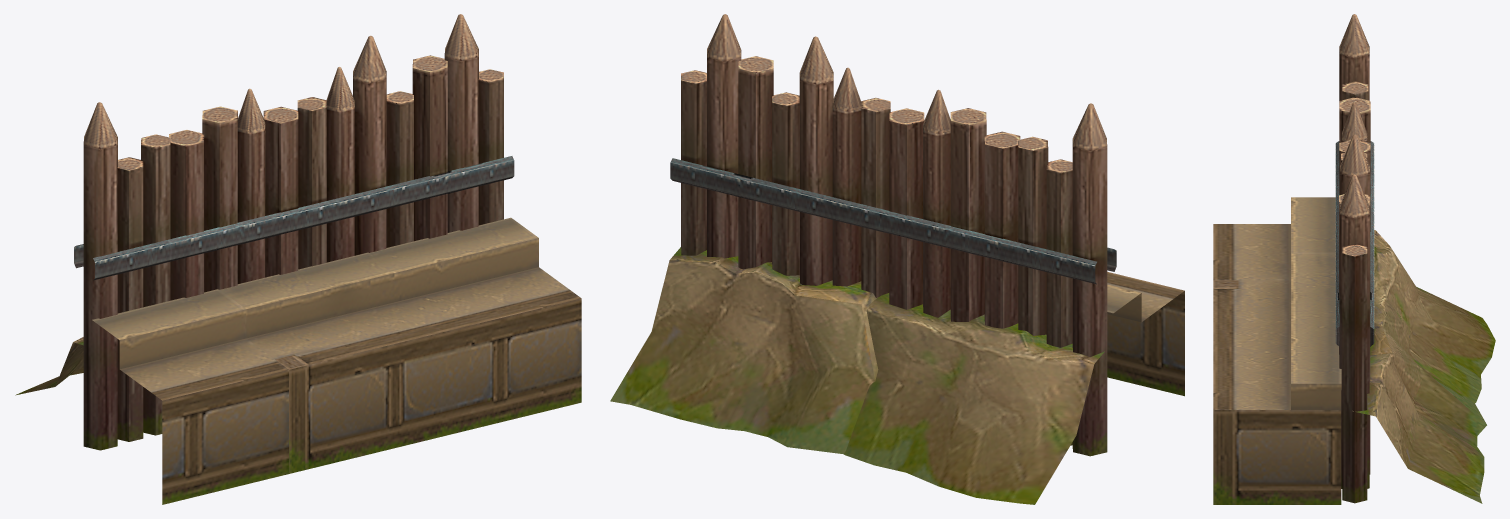
File: ShiJie_ChengQiang_11.FBX
3 renders of one model, left to right at view 1: azimuth 30°, elevation 25°; view 2: azimuth 150°, elevation 25°; view 3: azimuth 270°, elevation 25°, orthographic. The views are drawn at different scales.
Parts seen in each view (by area): view 1: ShiJie_ChengQiang_11; view 2: ShiJie_ChengQiang_11; view 3: ShiJie_ChengQiang_11.
Part boxes in pixels (bbox=[...]): ShiJie_ChengQiang_11: bbox=[15, 14, 581, 504]; ShiJie_ChengQiang_11: bbox=[610, 14, 1184, 504]; ShiJie_ChengQiang_11: bbox=[1213, 14, 1495, 504].
Size of the model in its own units: 100 by 78.2 by 64.29.
